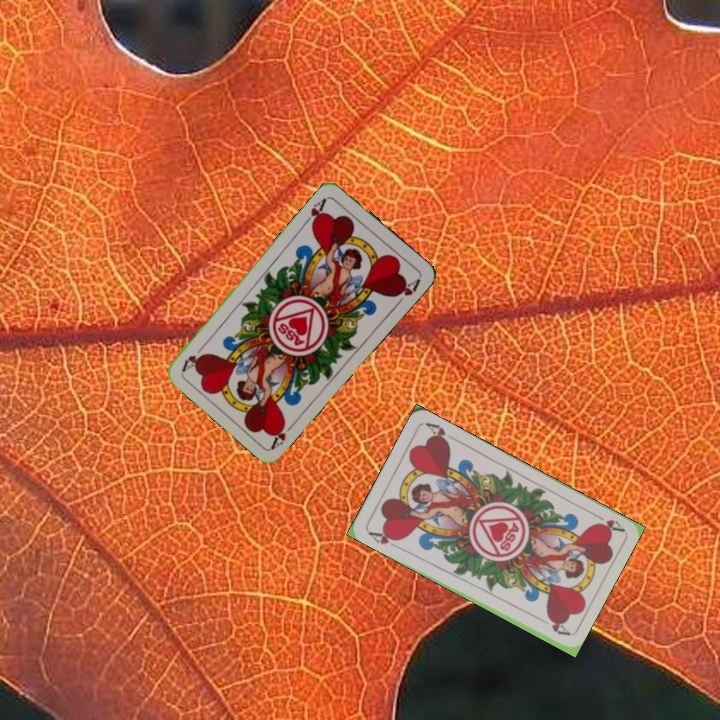HA: (267, 417, 299, 451), (300, 193, 329, 230), (588, 509, 626, 534), (364, 527, 402, 550)
